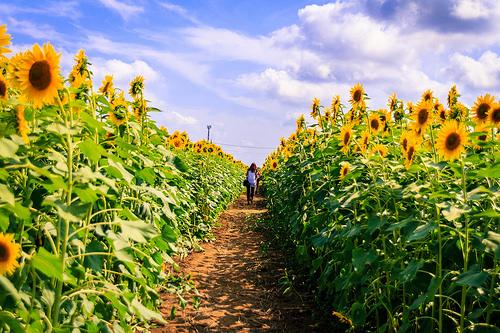sunflower: (10, 44, 61, 106), (435, 119, 468, 159), (0, 231, 22, 281), (408, 102, 435, 134), (473, 93, 495, 129), (337, 121, 353, 150), (366, 113, 383, 136), (486, 103, 500, 129), (348, 85, 365, 106), (307, 97, 321, 119)
